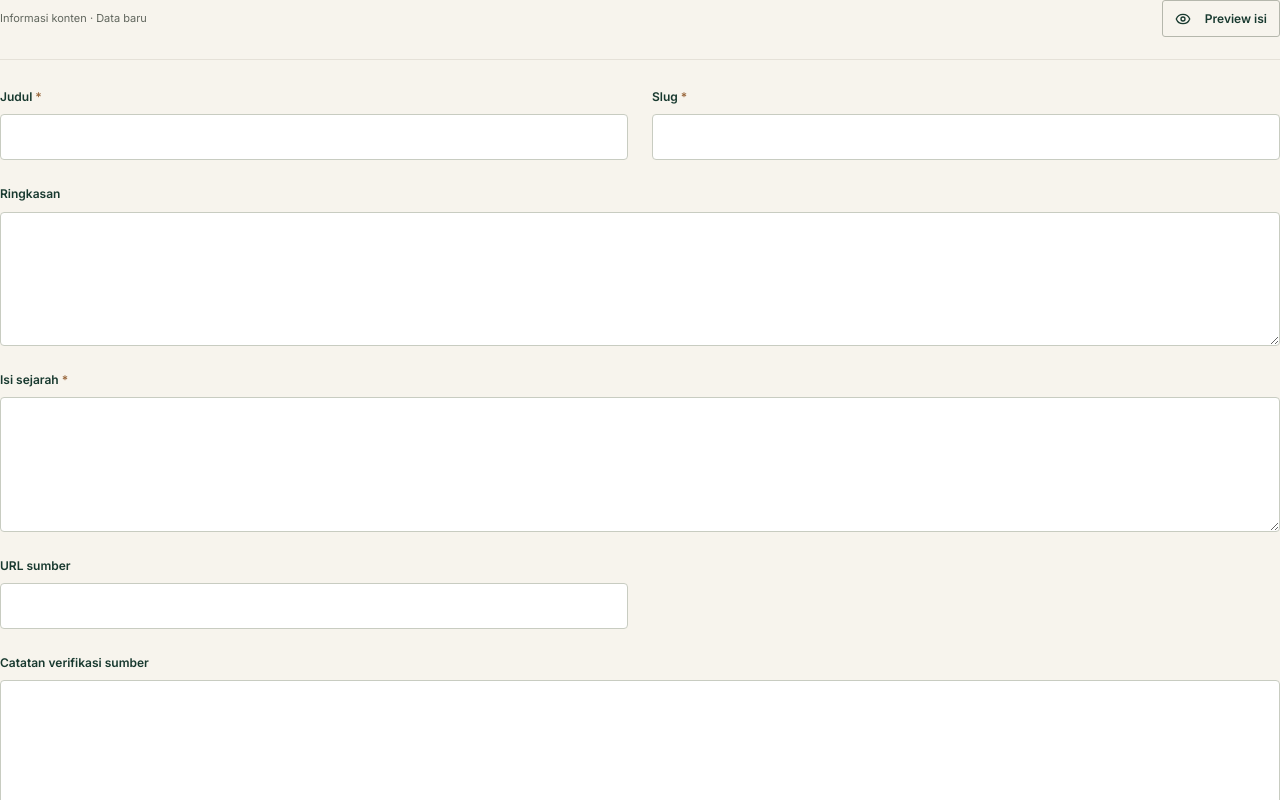
it: form menampilkan penolakan server dan tetap dapat diperbaiki
In the field labelled "Judul": (314, 137) x1=0 y1=114 x2=628 y2=160, type "Narasi yang diperiksa"
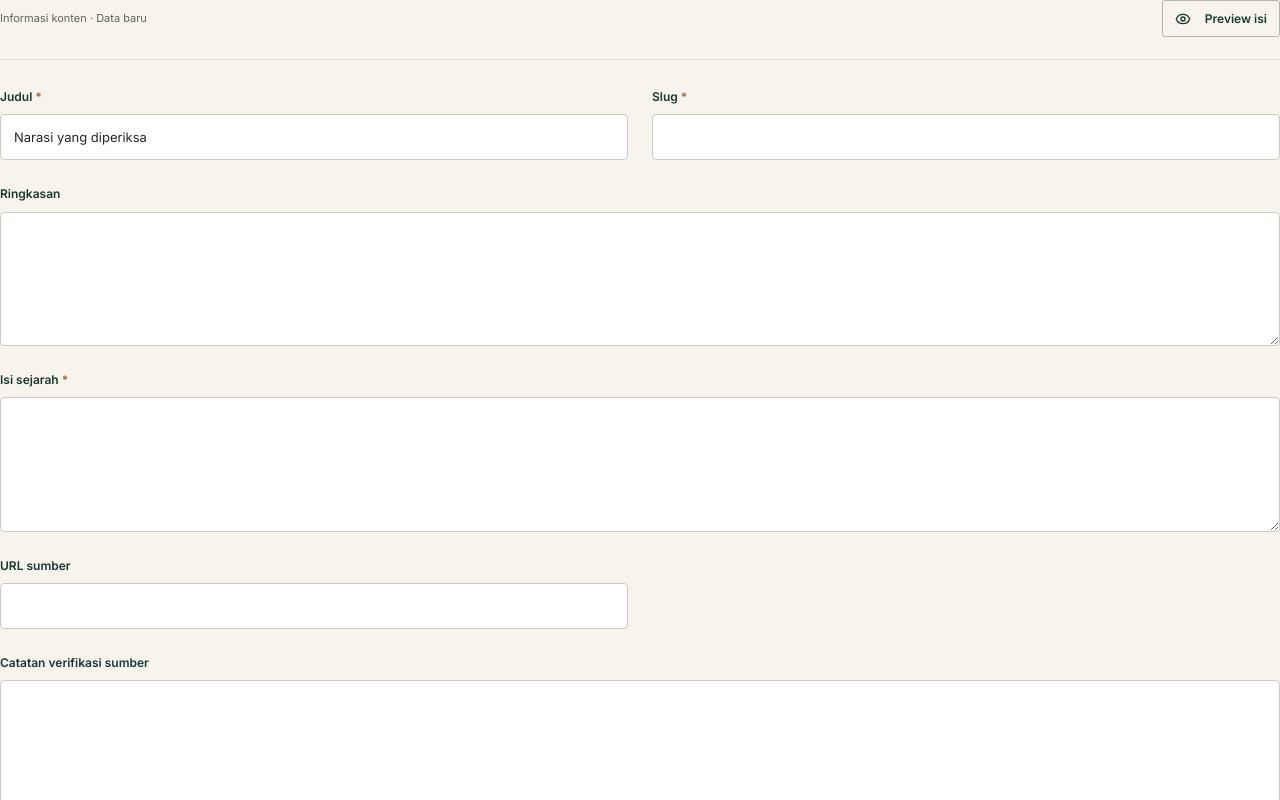
In the field labelled "Slug": (966, 137) x1=652 y1=114 x2=1279 y2=160, type "narasi-diperiksa"
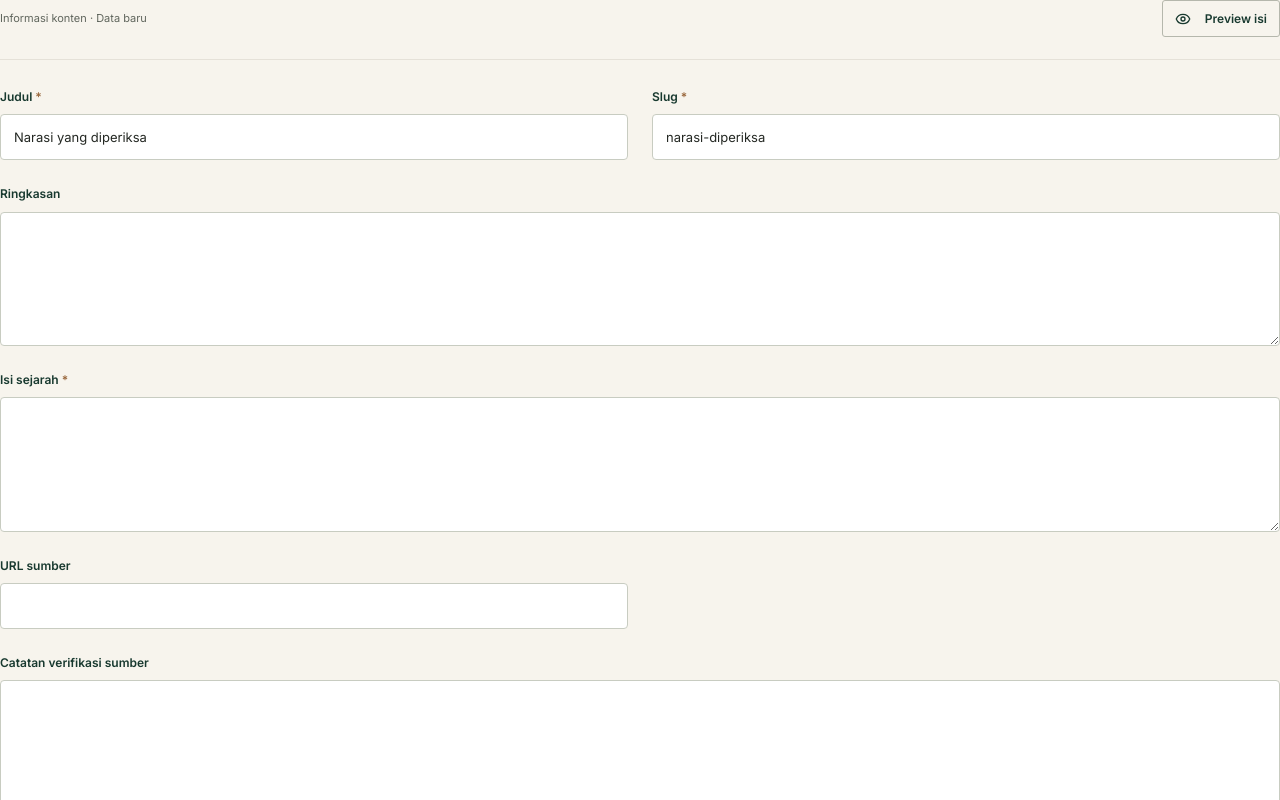
In the text box labelled "Isi sejarah": (640, 465) x1=0 y1=397 x2=1279 y2=532, type "Teks sejarah untuk pengujian form."
(page scrolled)
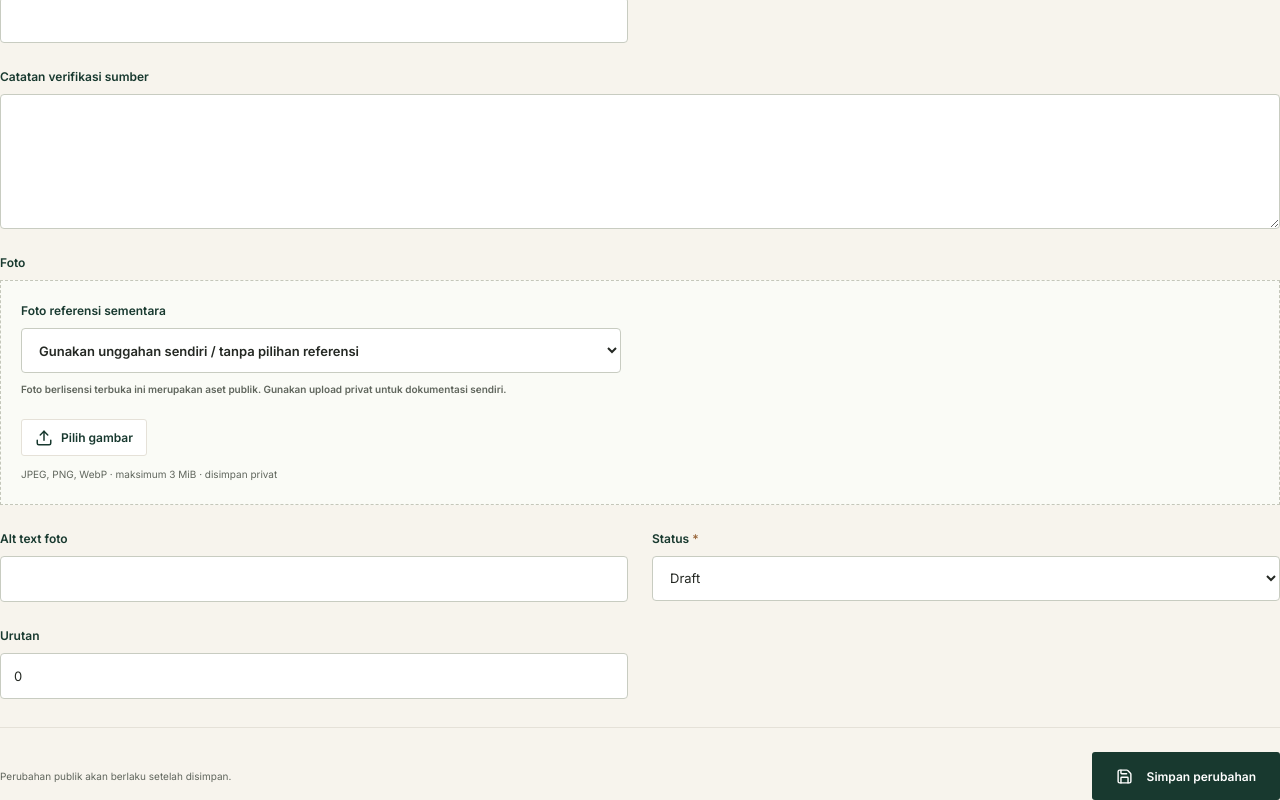
Click the button "Simpan perubahan": click(1186, 776) x1=1092 y1=752 x2=1279 y2=799
(page scrolled)
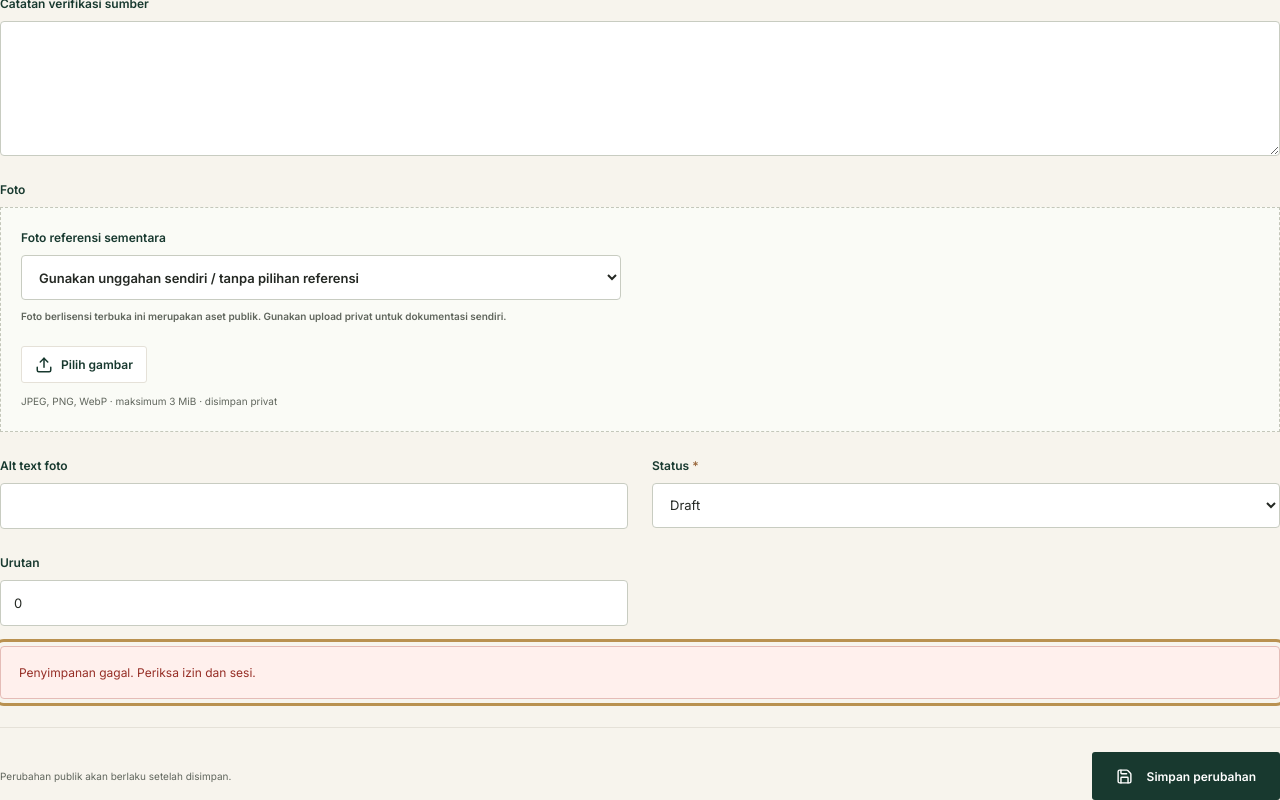
Check: the message shows "Penyimpanan gagal", box x1=19 y1=665 x2=256 y2=680
